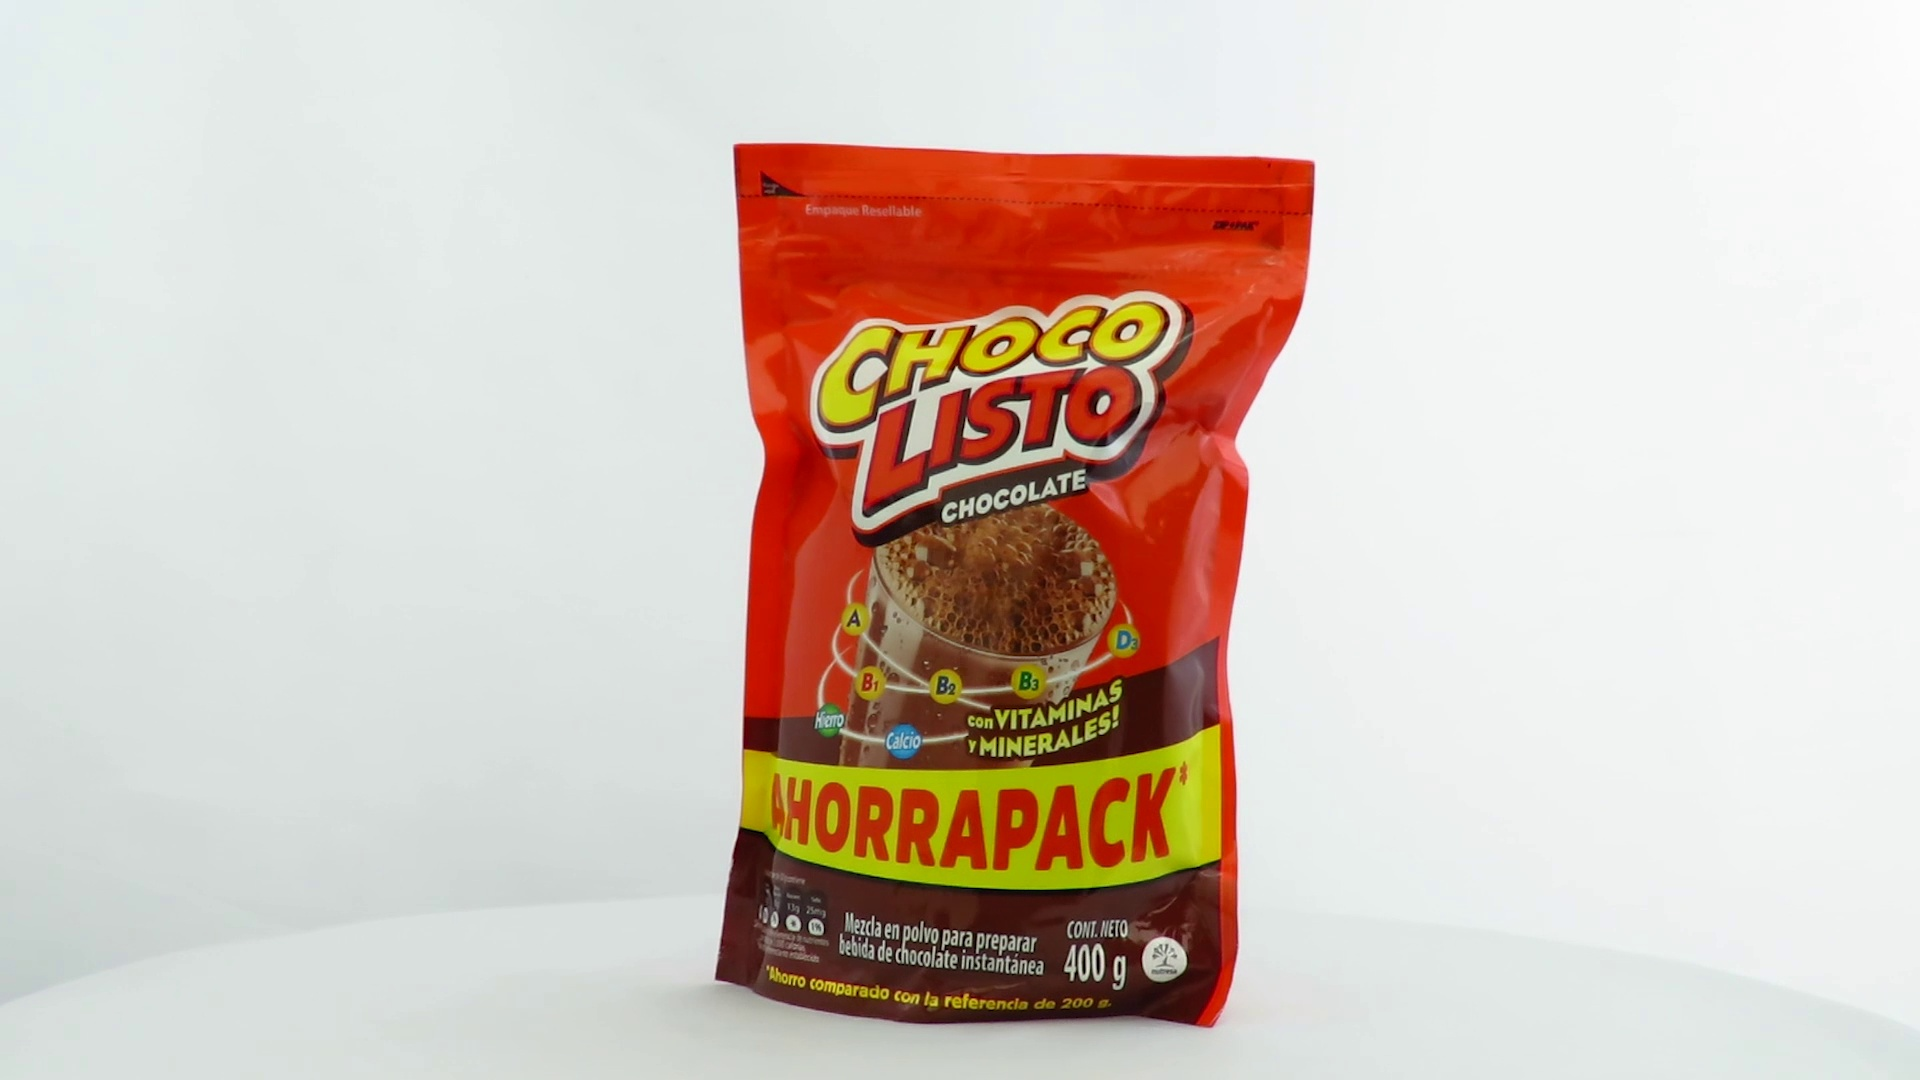COL0170103DYP40000: (709, 138, 1321, 1034)
